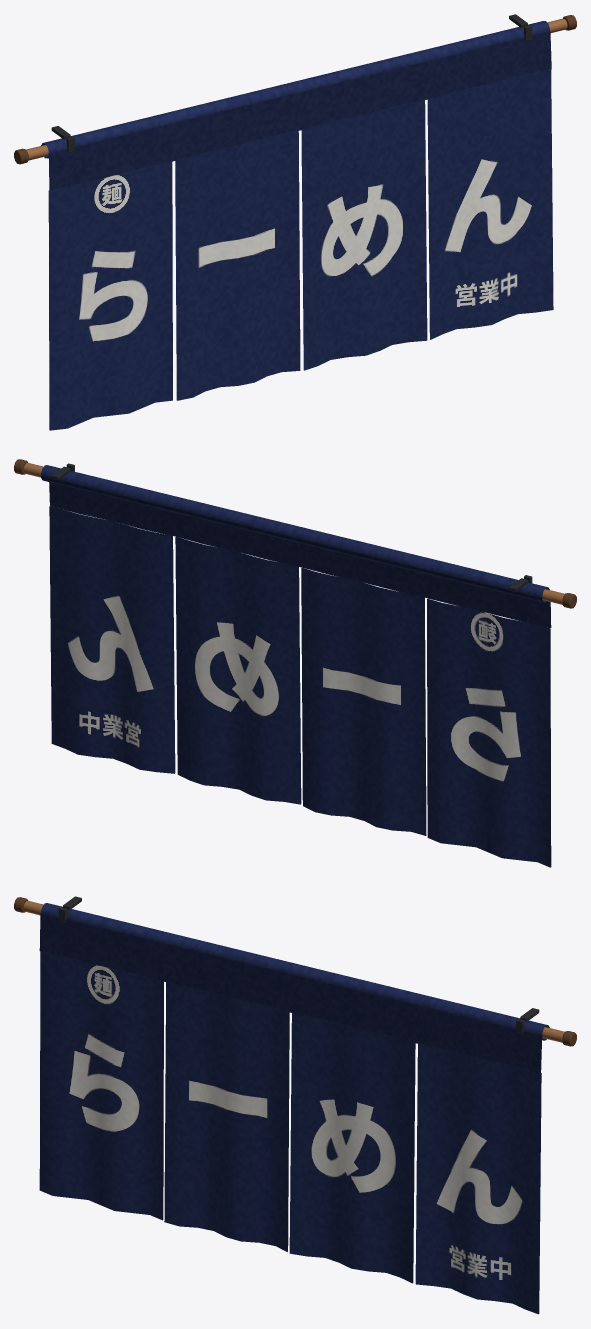
File: noren_curtain.fbx
3 renders of one model, top to bottom at view 1: azimuth 30°, elevation 25°; view 2: azimuth 150°, elevation 25°; view 3: azimuth 330°, elevation 25°, orthographic.
Parts seen in each view (by area): view 1: noren_curtain; view 2: noren_curtain; view 3: noren_curtain.
Part boxes in pixels (bbox=[...]): noren_curtain: bbox=[14, 14, 576, 430]; noren_curtain: bbox=[14, 459, 576, 867]; noren_curtain: bbox=[14, 896, 576, 1314].
Bounding box in the file's own units: 1.9 × 0.934 × 0.114.
Materials: 4 (1 with a texture image).
